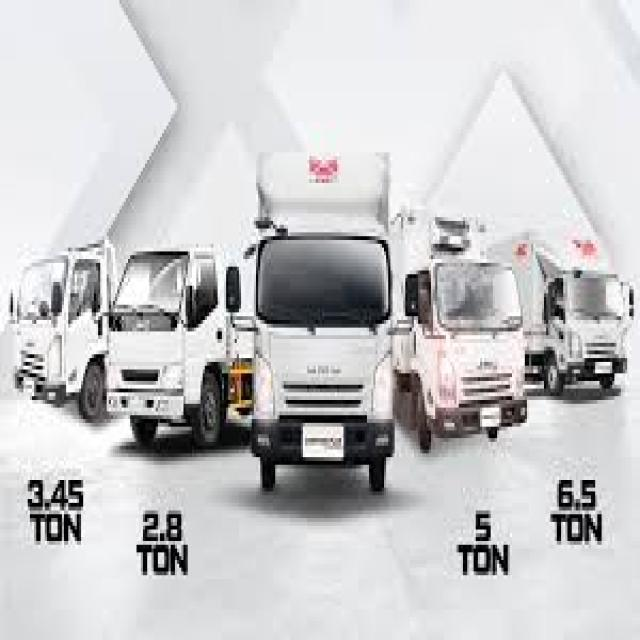TRUCK: (241, 152, 404, 503), (391, 210, 529, 463), (100, 240, 253, 468), (493, 226, 636, 446), (5, 244, 128, 457)
